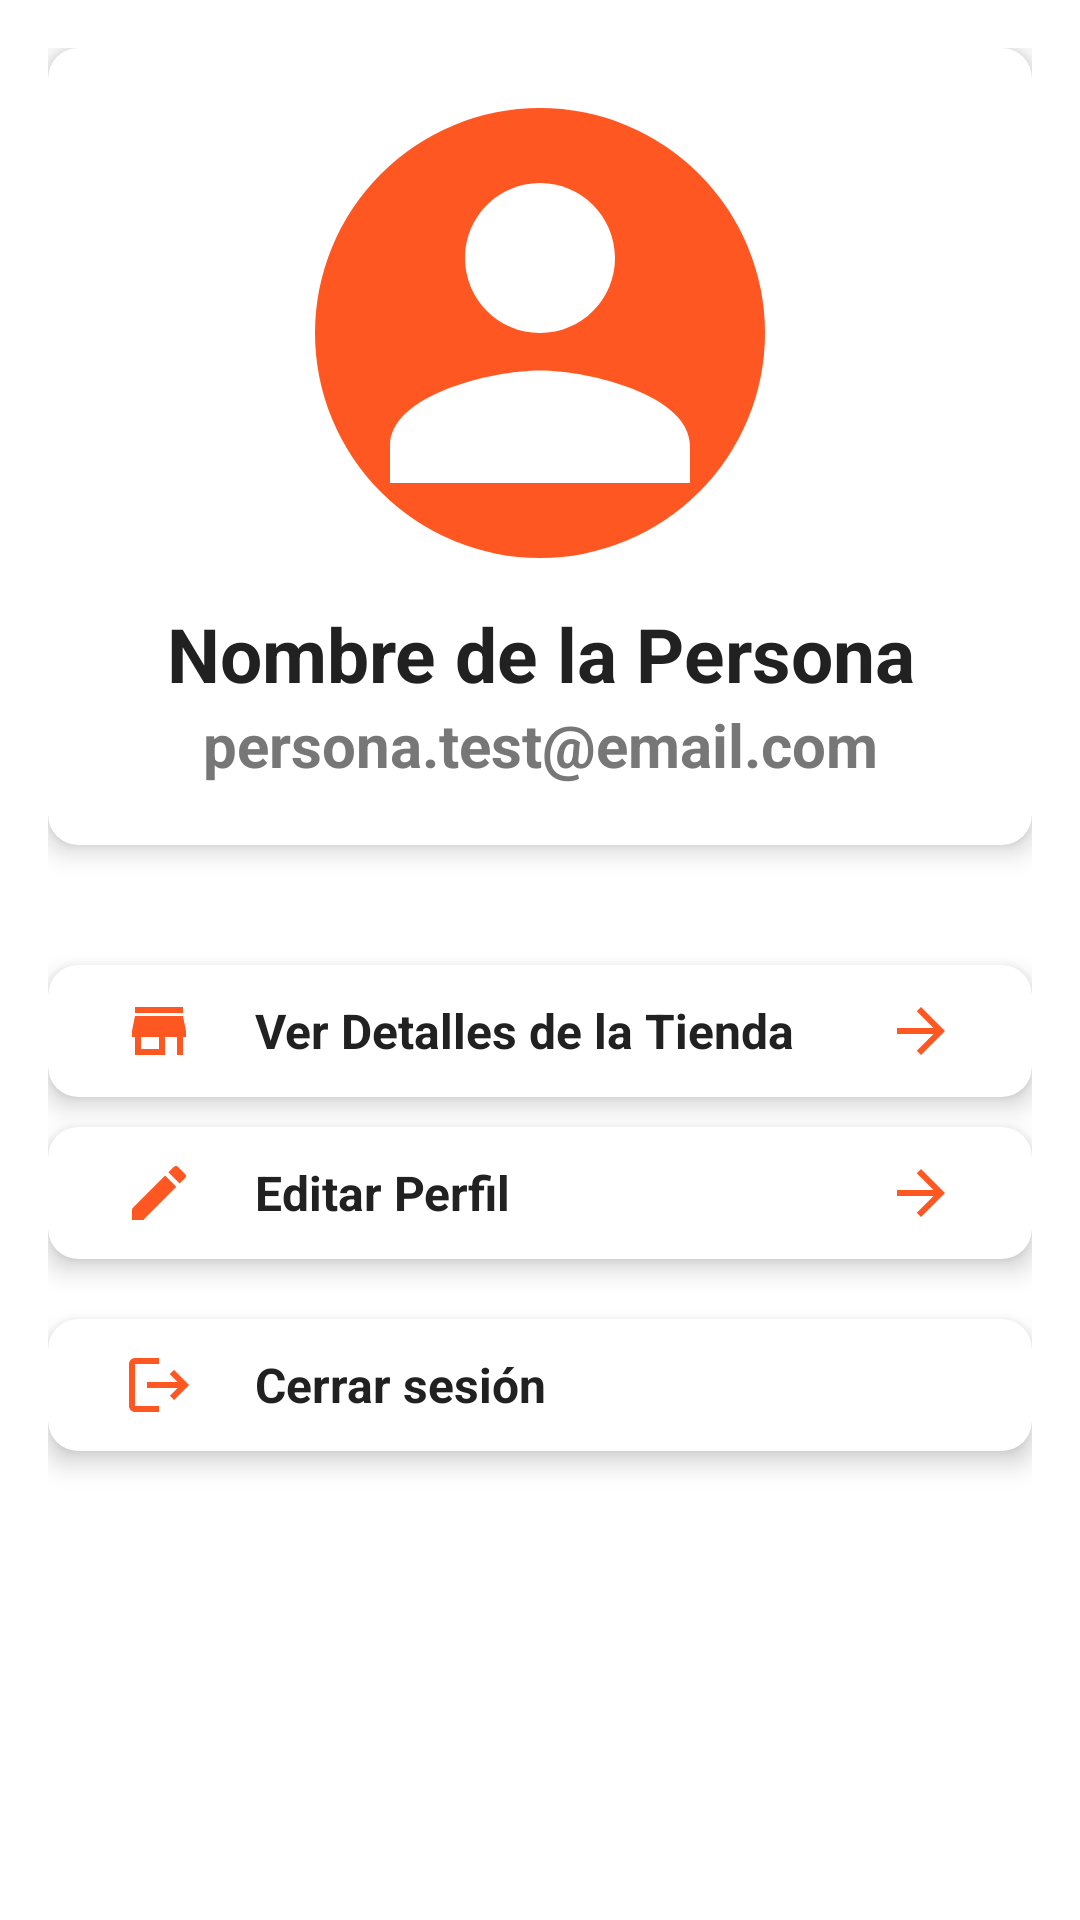

Where icons sit on this 1080*1920 app screen, as [x1, y1, x2, y2]:
arrow forward: [897, 1007, 945, 1055], [897, 1169, 945, 1217]
store: [132, 1007, 186, 1055]
